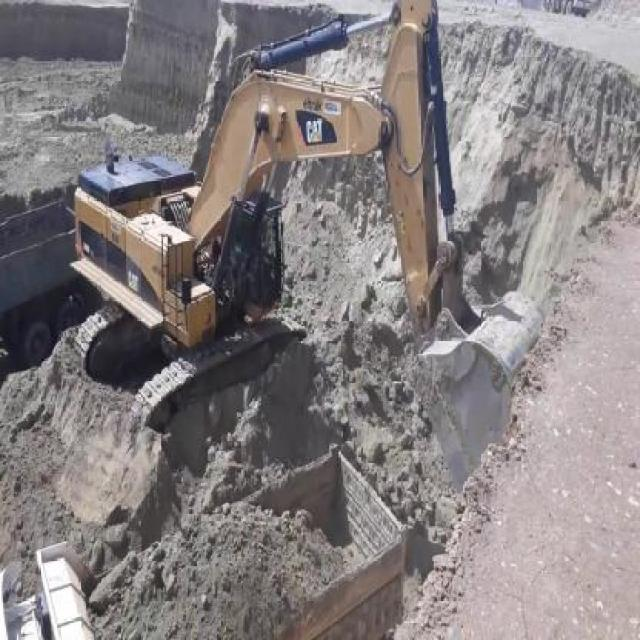Dump Truck: (0, 438, 409, 639), (3, 190, 125, 376)
Excavator: (61, 0, 545, 505)
